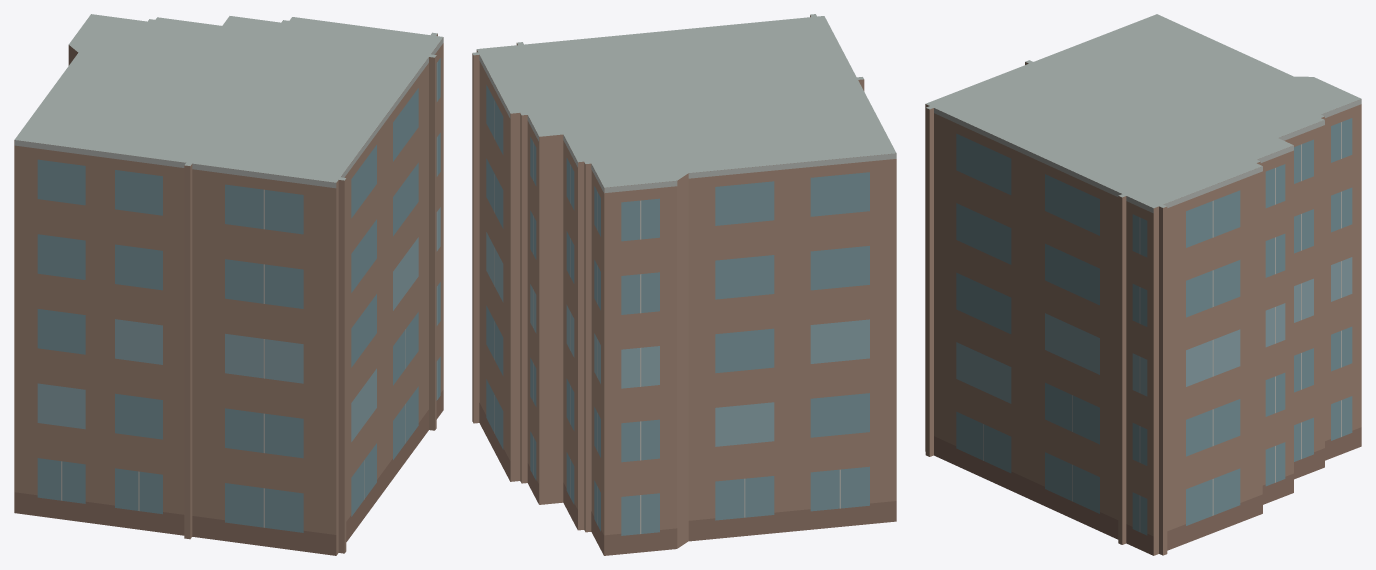
The model's file is survey-upis-32714213.glb.
3 views of the same model, side by side, from view 1: azimuth 30°, elevation 25°; view 2: azimuth 150°, elevation 25°; view 3: azimuth 270°, elevation 25° (orthographic). The views are drawn at different scales.
Visible parts, largest first — view 1: survey-upis-32714213.tmp; view 2: survey-upis-32714213.tmp; view 3: survey-upis-32714213.tmp.
Part boxes in pixels (x1=…): survey-upis-32714213.tmp: x1=14, y1=14, x2=443, y2=555; survey-upis-32714213.tmp: x1=472, y1=14, x2=896, y2=555; survey-upis-32714213.tmp: x1=925, y1=14, x2=1361, y2=555.
Size of the model in its own units: 19.48 by 16.24 by 18.49.
